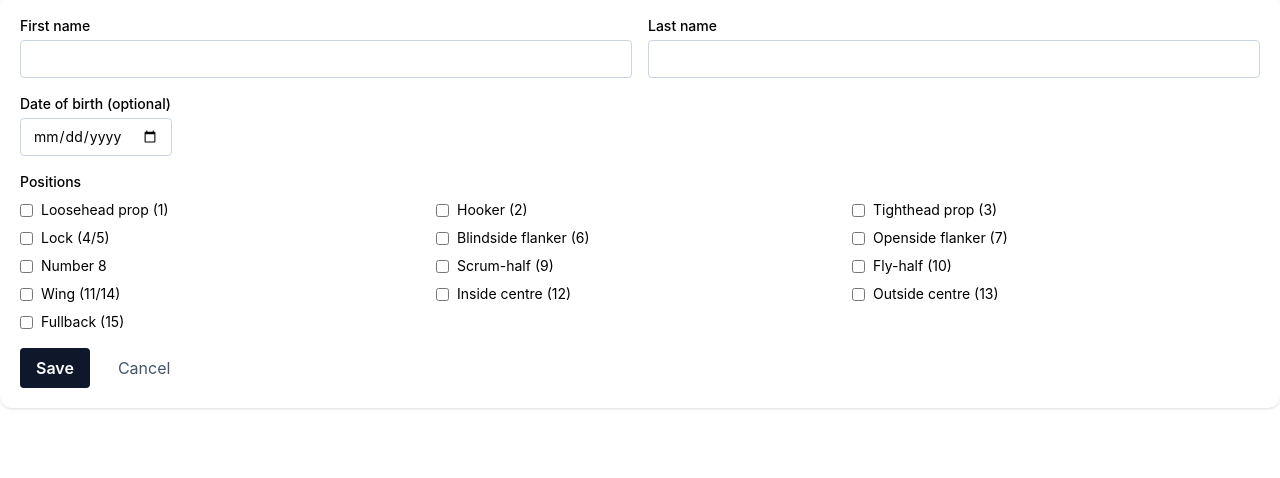
Test case: PlayerForm › refuses to submit without a name
Click the checkbox labelled "Openside flanker (7)" at (858, 238), box [852, 232, 865, 244]
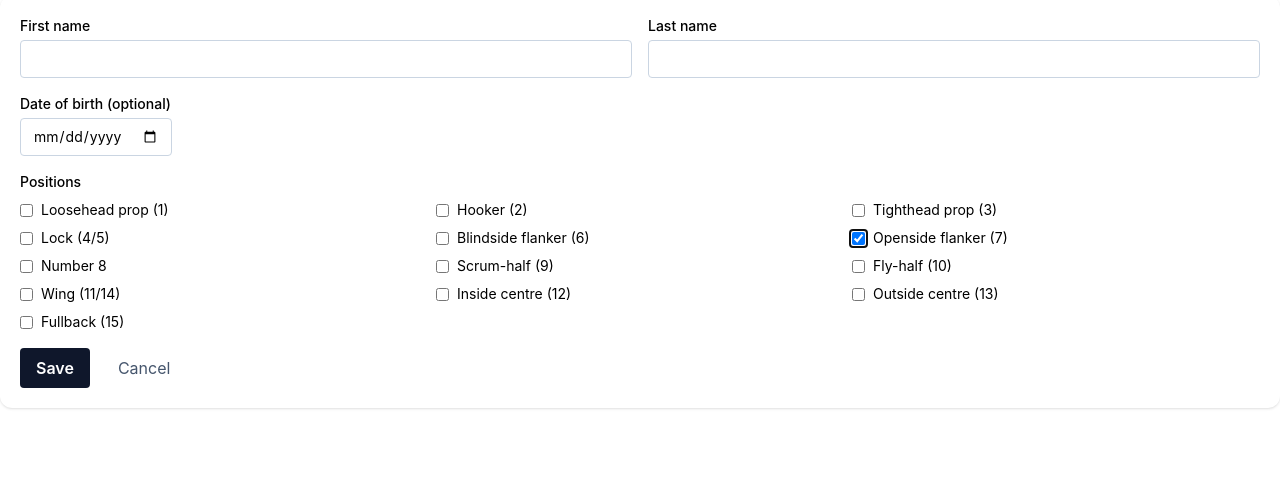
Click the button "Save" at (55, 368), box [20, 348, 90, 388]
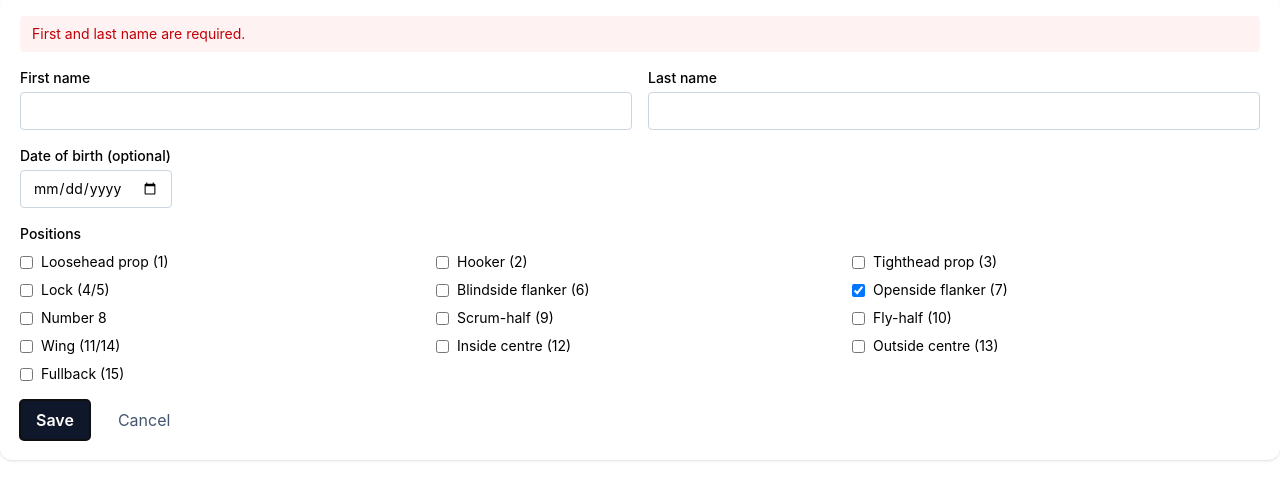
Now the message shows "name", box [32, 25, 245, 42]
